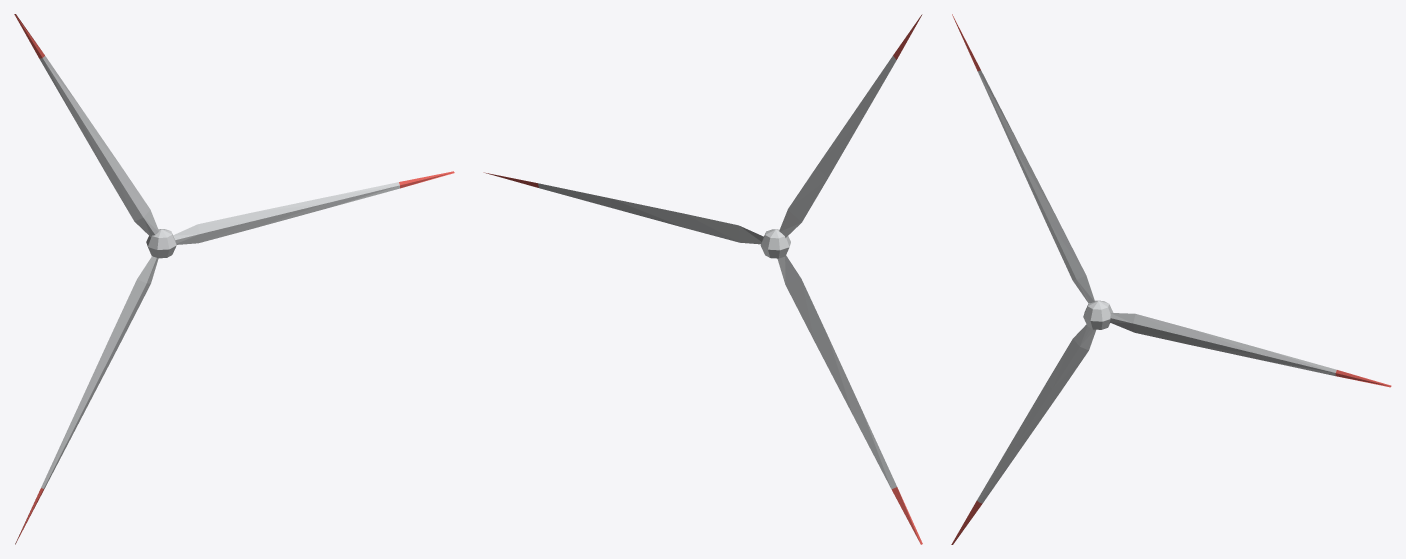
File: sadamine_turbine_rotor.glb
3 renders of one model, left to right at view 1: azimuth 30°, elevation 25°; view 2: azimuth 150°, elevation 25°; view 3: azimuth 330°, elevation 25°, orthographic.
Parts seen in each view (by area): view 1: sadamine_turbine_rotor; view 2: sadamine_turbine_rotor; view 3: sadamine_turbine_rotor.
Boxes of the visible parts, x1=… form: sadamine_turbine_rotor: x1=14, y1=14, x2=454, y2=544; sadamine_turbine_rotor: x1=483, y1=14, x2=922, y2=544; sadamine_turbine_rotor: x1=951, y1=14, x2=1391, y2=544.
Bounding box in the file's own units: 24.02 × 27.74 × 1.5.
